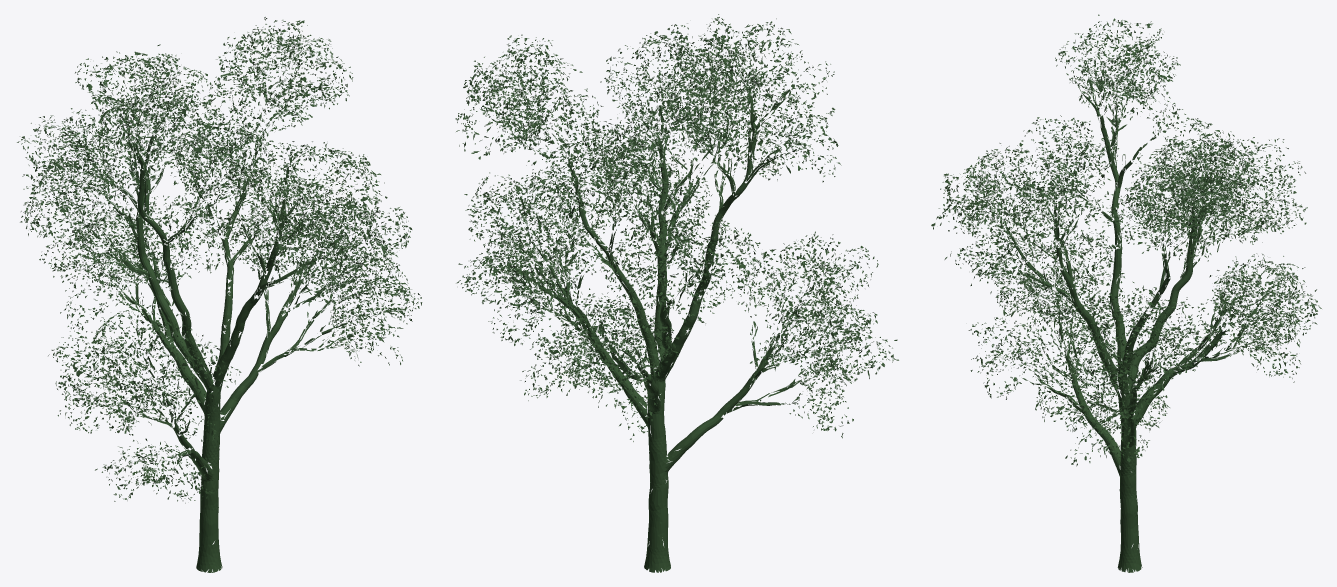
File: gen-tree-deciduous-medium-1.glb
The picture shows the model from 3 angles, left to right: view 1: azimuth 30°, elevation 25°; view 2: azimuth 150°, elevation 25°; view 3: azimuth 270°, elevation 25°; orthographic projection. The views are drawn at different scales.
Visible parts, largest first — view 1: gen-tree-deciduous-medium-1_part1; view 2: gen-tree-deciduous-medium-1_part1; view 3: gen-tree-deciduous-medium-1_part1.
Boxes of the visible parts, <box> form: gen-tree-deciduous-medium-1_part1: <box>17,17,422,572</box>; gen-tree-deciduous-medium-1_part1: <box>455,14,898,572</box>; gen-tree-deciduous-medium-1_part1: <box>931,14,1321,572</box>.
Bounding box in the file's own units: 5207 × 7000 × 4884.
